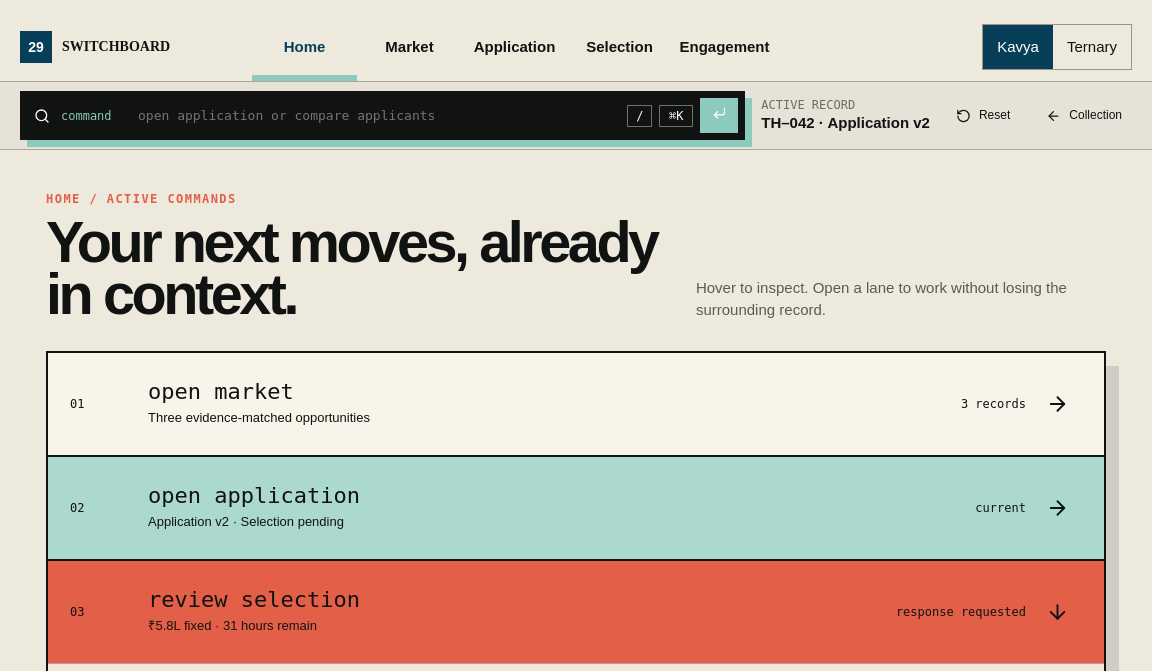
Test: Command × Current concept interactions › uses Command's simple labels and expands a Switchboard lane inline
Expected: the navigation bar named "Switchboard primary" shows "Home", [252, 12, 357, 81]
Expected: the navigation bar named "Switchboard primary" shows "Market", [357, 12, 462, 81]
Click the button "open market": (221, 392) [48, 353, 1104, 455]
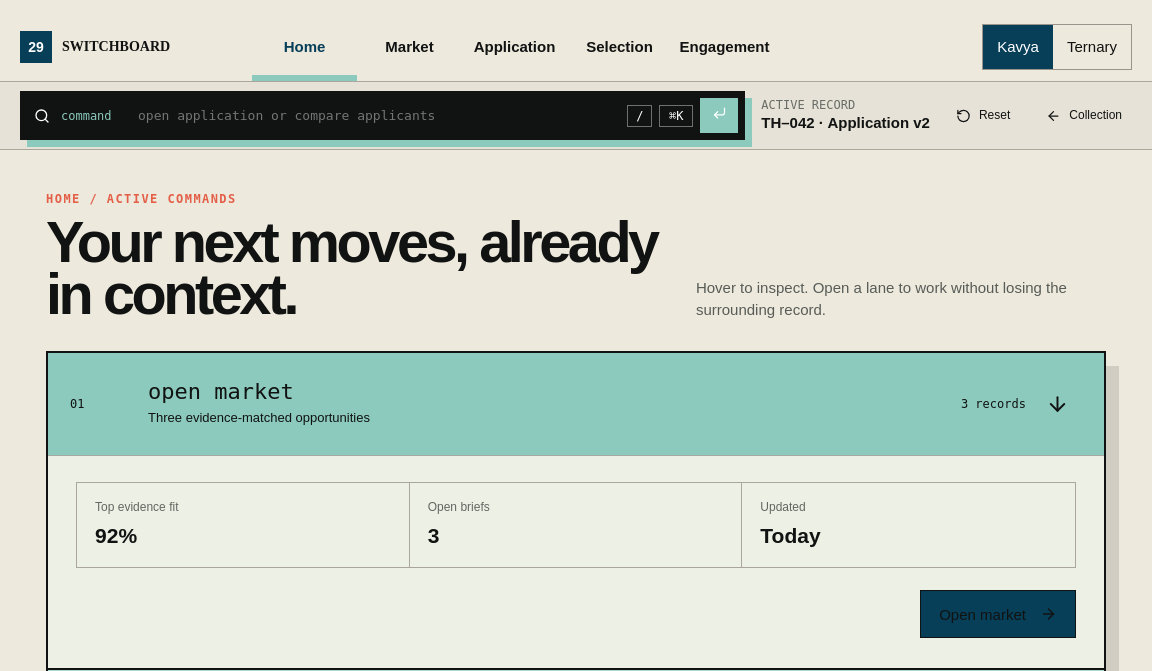
Now the button "open market" is expanded, box [48, 353, 1104, 455]
